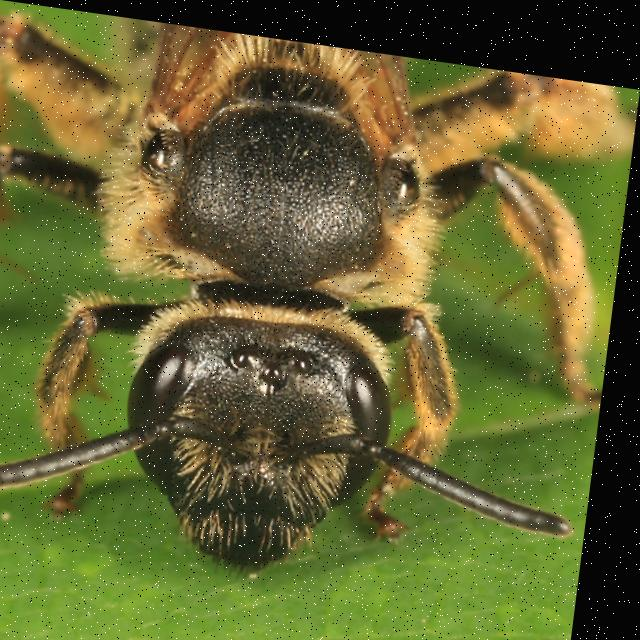Lasioglossum: (0, 1, 628, 640)
